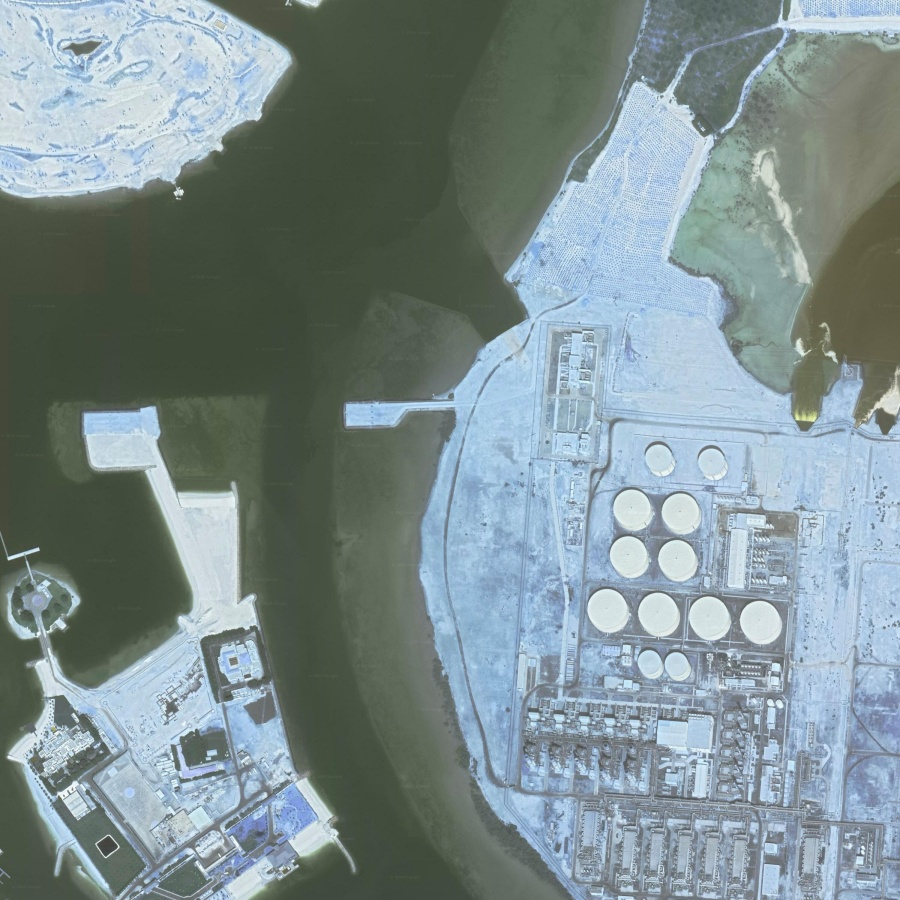PowerPlant: (515, 429, 815, 818)
